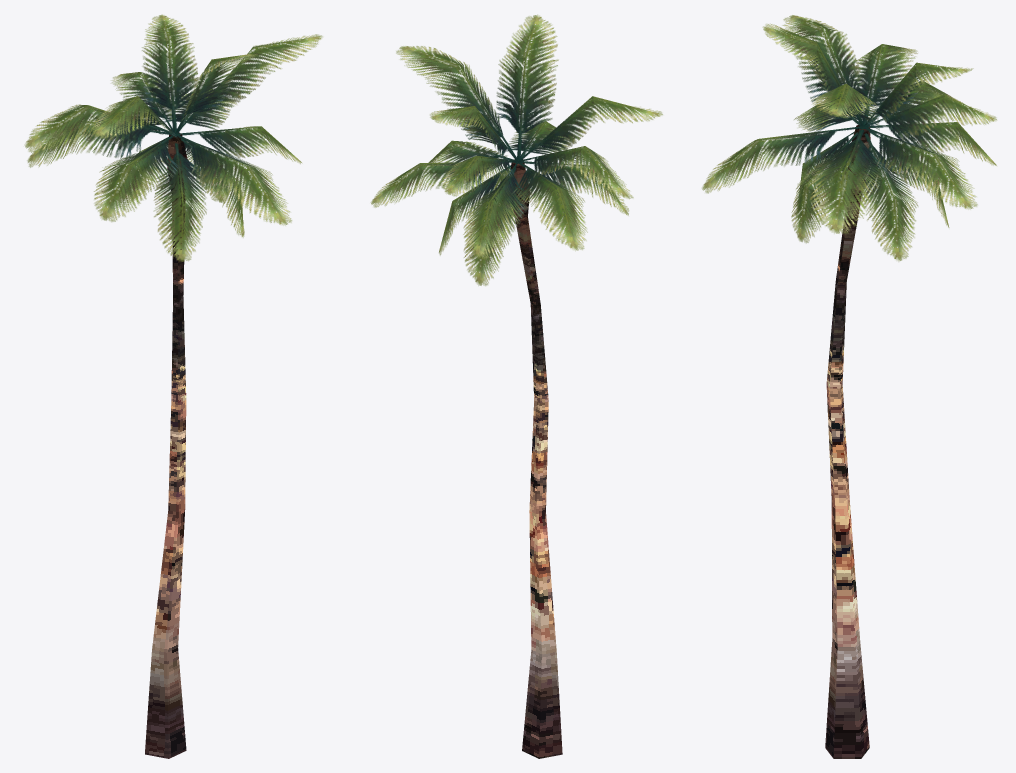
File: stage-east-p2-79.glb
3 renders of one model, left to right at view 1: azimuth 30°, elevation 25°; view 2: azimuth 150°, elevation 25°; view 3: azimuth 270°, elevation 25°, orthographic. The views are drawn at different scales.
Size of the model in its own units: 9.76 by 23.98 by 8.95.
2 materials, 2 textured.
